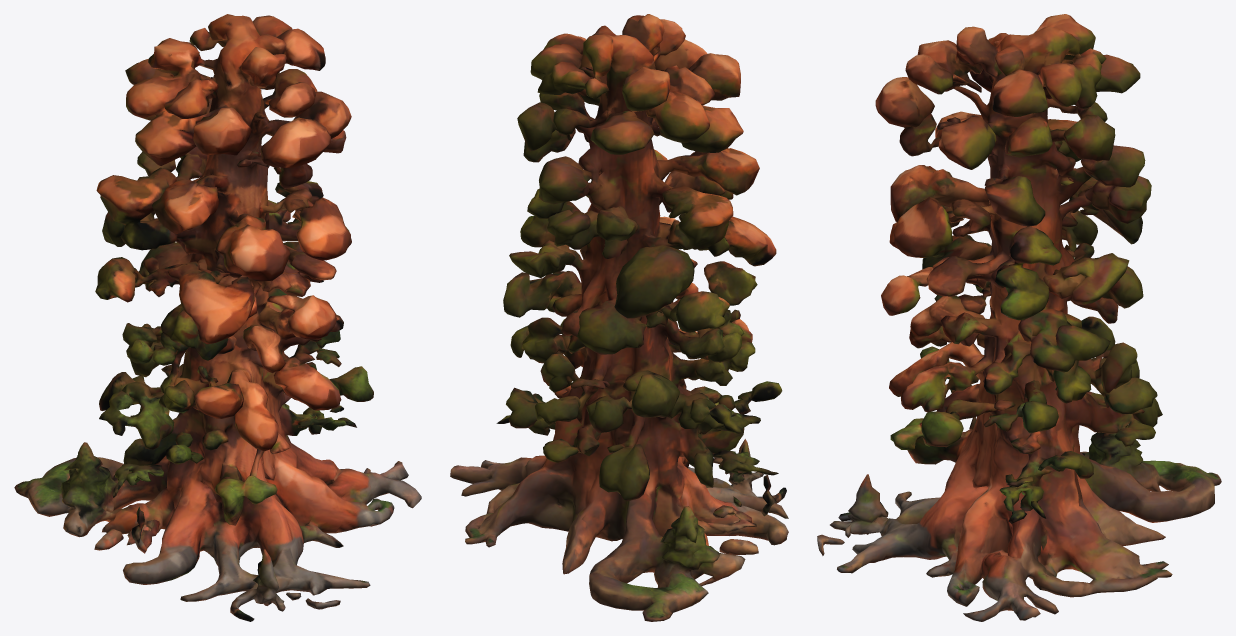
File: AI_GiantRedwoodTree.fbx
The picture shows the model from 3 angles, left to right: view 1: azimuth 30°, elevation 25°; view 2: azimuth 150°, elevation 25°; view 3: azimuth 270°, elevation 25°; orthographic projection. The views are drawn at different scales.
Parts seen in each view (by area): view 1: Mesh_0; view 2: Mesh_0; view 3: Mesh_0.
Part boxes in pixels (bbox=[...]): Mesh_0: bbox=[14, 14, 421, 621]; Mesh_0: bbox=[450, 14, 788, 621]; Mesh_0: bbox=[817, 14, 1221, 621].
Size of the model in its own units: 128 by 199 by 136.
Materials: 1 (1 with a texture image).
